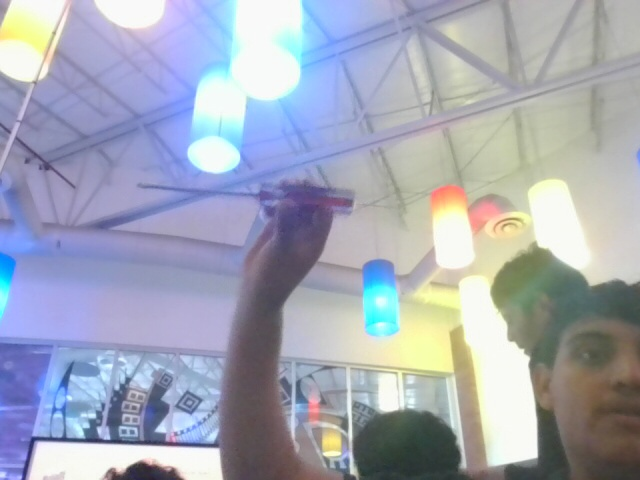destornillador: (141, 177, 359, 217)
